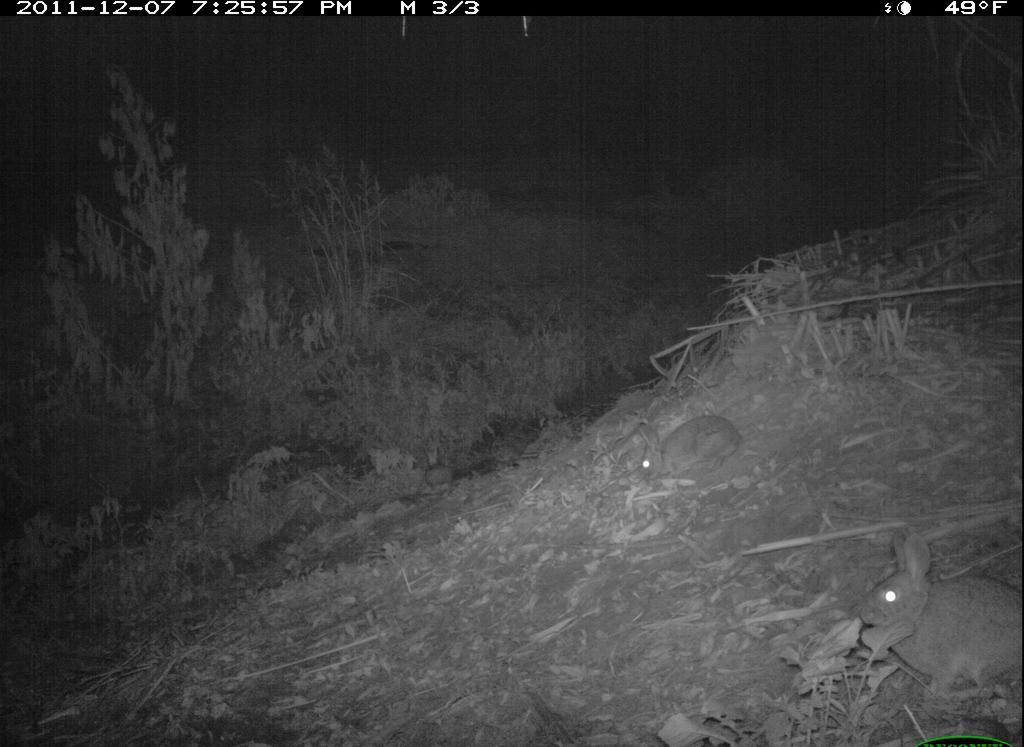rabbit: (853, 528, 1017, 701), (623, 405, 754, 493)
